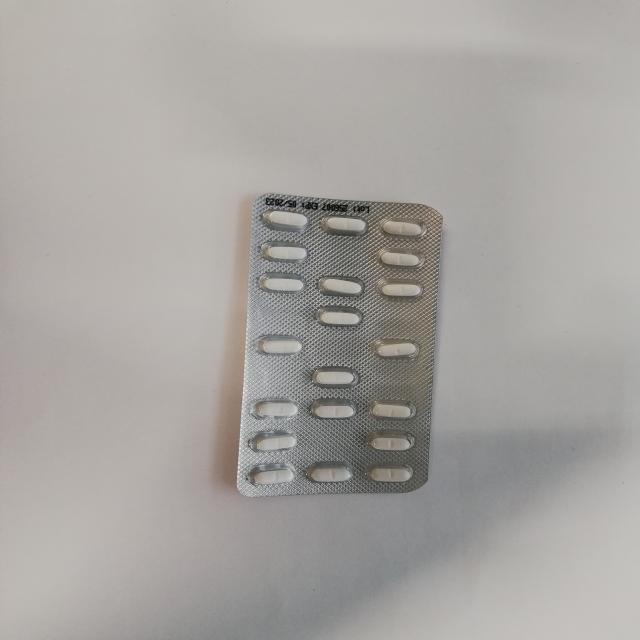Pill: (370, 211, 437, 245), (250, 329, 311, 363), (367, 246, 433, 276), (302, 364, 370, 393), (316, 268, 368, 303), (257, 271, 317, 301), (367, 399, 426, 429), (368, 336, 429, 365), (318, 207, 371, 240), (364, 464, 430, 490), (311, 304, 369, 332), (256, 242, 322, 266), (376, 278, 431, 306), (253, 396, 306, 424), (304, 461, 357, 489), (363, 432, 420, 458), (311, 398, 361, 427), (246, 432, 302, 457), (261, 203, 309, 232), (248, 466, 298, 490)
